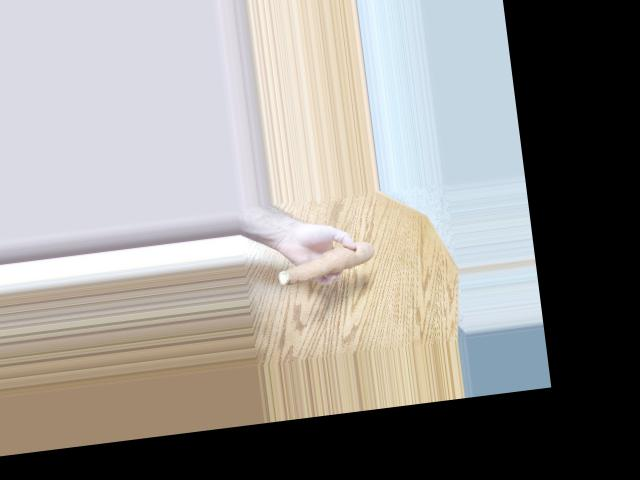sweet_potato: (272, 245, 381, 284)
